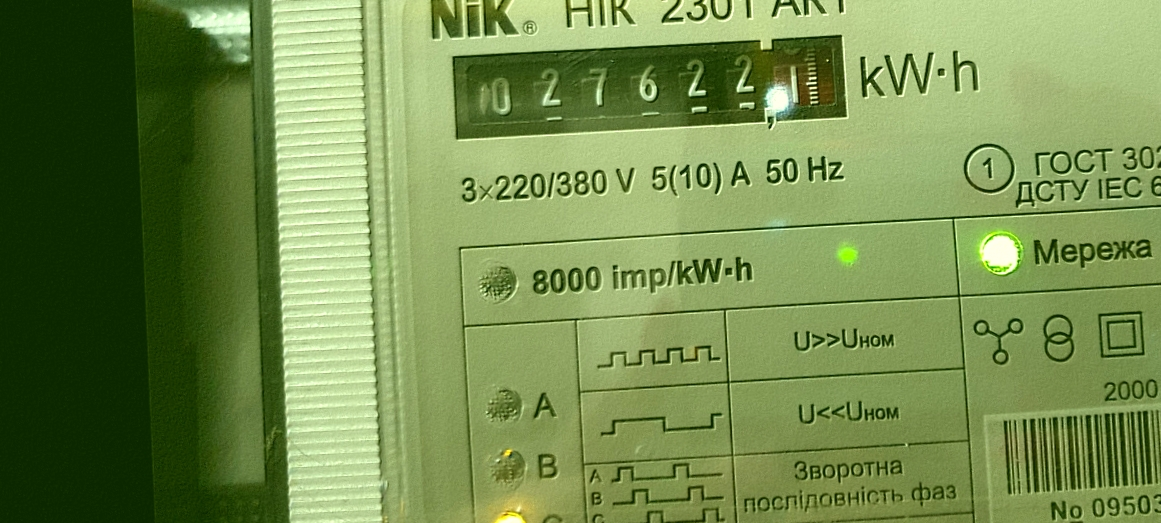0: (489, 73, 515, 117)
1: (786, 61, 803, 105)
2: (683, 56, 710, 98), (539, 65, 564, 109), (733, 52, 757, 94)
6: (636, 61, 660, 103)
7: (587, 65, 612, 109)
screen: (440, 24, 861, 146)
